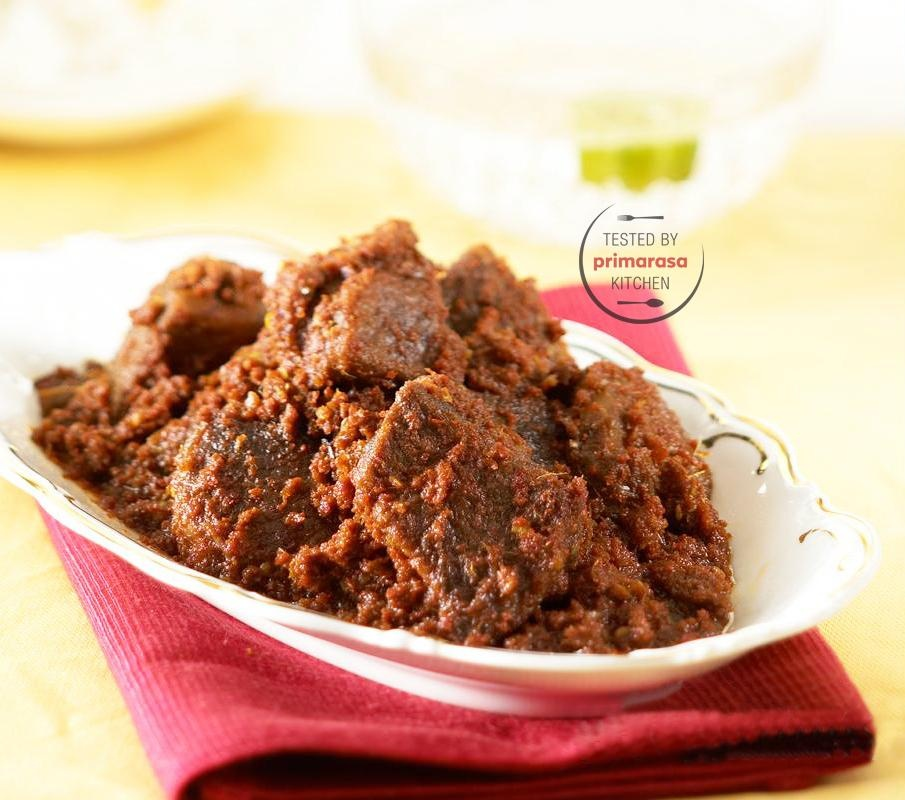rendang: (17, 229, 769, 675)
